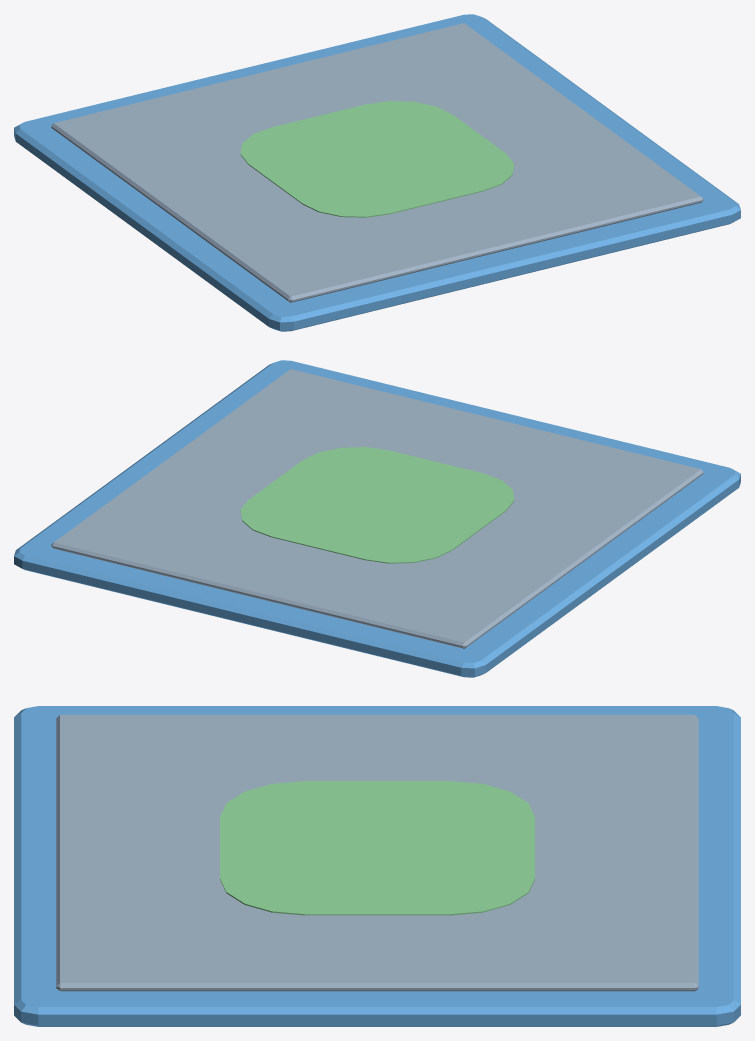
File: nursery-and-primary-classroom-carpet-mat-tile-blue-d9b14a7b__34992.glb
3 renders of one model, top to bottom at view 1: azimuth 30°, elevation 25°; view 2: azimuth 150°, elevation 25°; view 3: azimuth 270°, elevation 25°, orthographic. The views are drawn at different scales.
Parts seen in each view (by area): view 1: carpet-mat-tile-blue; view 2: carpet-mat-tile-blue; view 3: carpet-mat-tile-blue.
Part boxes in pixels (x1=…): carpet-mat-tile-blue: x1=14, y1=14, x2=740, y2=331; carpet-mat-tile-blue: x1=14, y1=360, x2=740, y2=677; carpet-mat-tile-blue: x1=14, y1=706, x2=740, y2=1026.
Bounding box in the file's own units: 0.6 × 0.0262 × 0.6.
